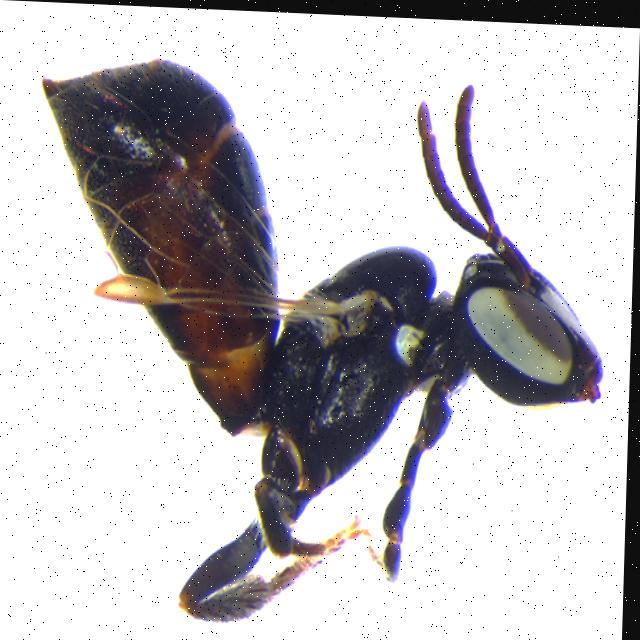Braunsapis: (30, 32, 621, 635)
